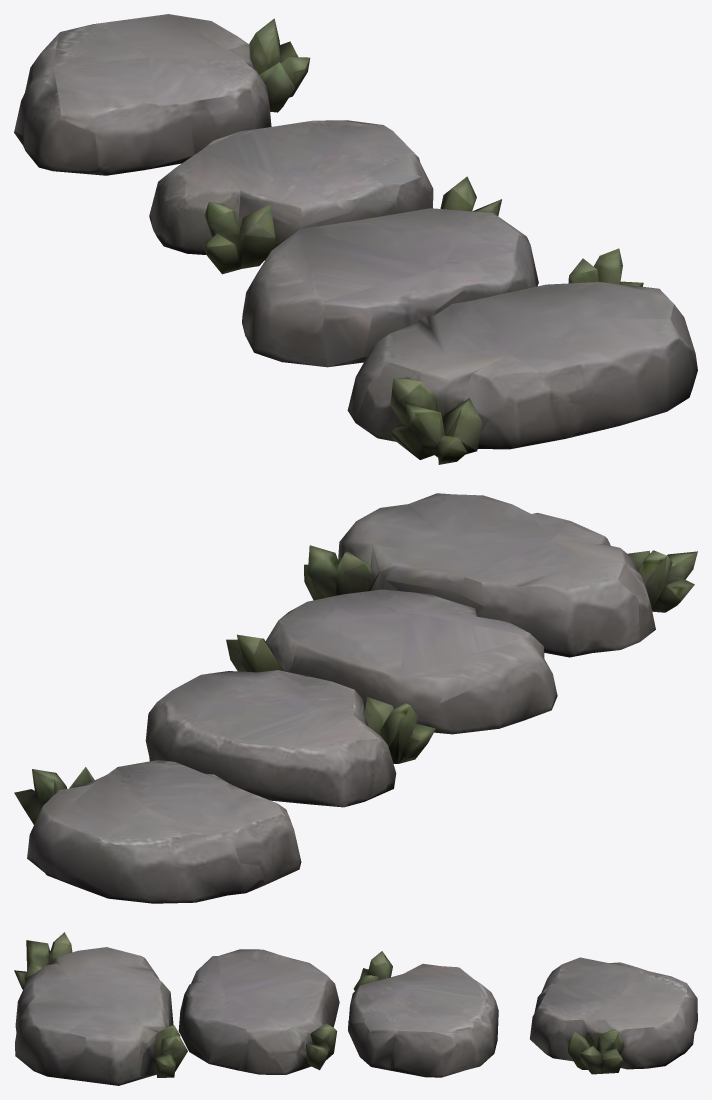
Rendered from stepping.glb.
3 renders of one model, top to bottom at view 1: azimuth 30°, elevation 25°; view 2: azimuth 150°, elevation 25°; view 3: azimuth 270°, elevation 25°, orthographic. The views are drawn at different scales.
Visible parts, largest first — view 1: tripo_node_b5e3a3e4-e044-49e2-9a66-f64ff7a718c6; view 2: tripo_node_b5e3a3e4-e044-49e2-9a66-f64ff7a718c6; view 3: tripo_node_b5e3a3e4-e044-49e2-9a66-f64ff7a718c6.
Boxes of the visible parts, x1=… form: tripo_node_b5e3a3e4-e044-49e2-9a66-f64ff7a718c6: x1=14, y1=14, x2=697, y2=464; tripo_node_b5e3a3e4-e044-49e2-9a66-f64ff7a718c6: x1=14, y1=493, x2=697, y2=903; tripo_node_b5e3a3e4-e044-49e2-9a66-f64ff7a718c6: x1=14, y1=932, x2=697, y2=1085.
Bounding box in the file's own units: 0.3831 × 0.0779 × 0.9798.
Materials: 1 (1 with a texture image).
